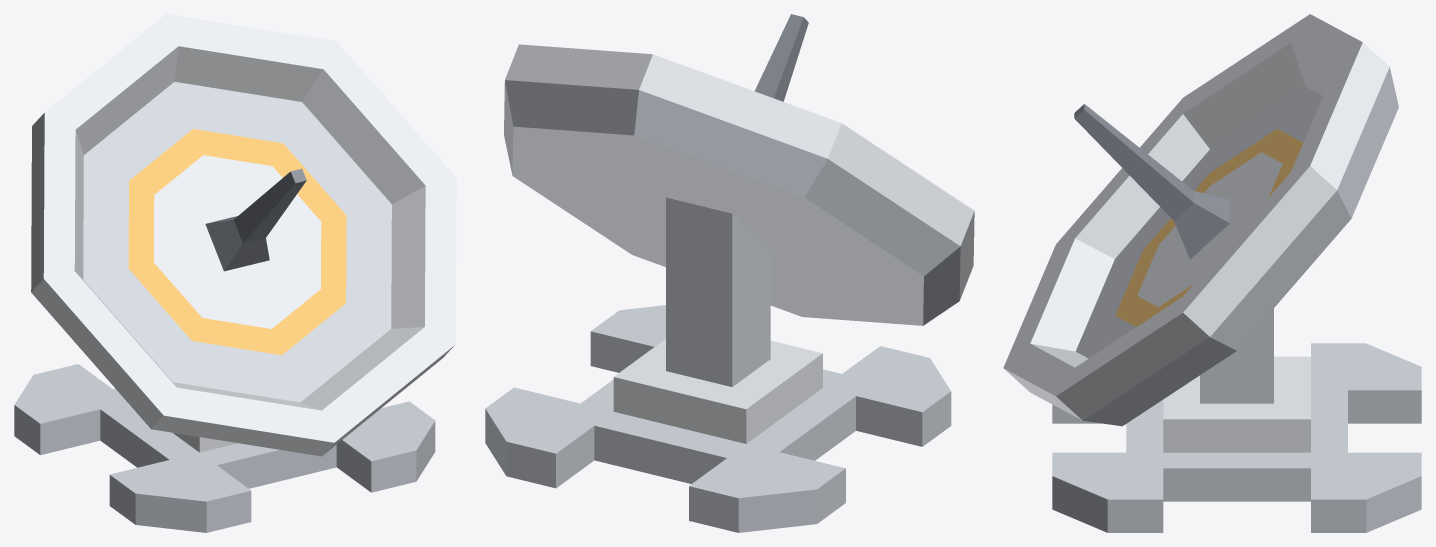
File: satelliteDish.gltf
3 renders of one model, left to right at view 1: azimuth 30°, elevation 25°; view 2: azimuth 150°, elevation 25°; view 3: azimuth 270°, elevation 25°, orthographic. The views are drawn at different scales.
Parts seen in each view (by area): view 1: satelliteDish; view 2: satelliteDish; view 3: satelliteDish.
Boxes of the visible parts, left/top/right/bottom form: satelliteDish: left=14, top=14, right=456, bottom=532; satelliteDish: left=485, top=14, right=974, bottom=532; satelliteDish: left=1003, top=14, right=1421, bottom=532.
Bounding box in the file's own units: 0.6884 × 0.6165 × 0.5665.
